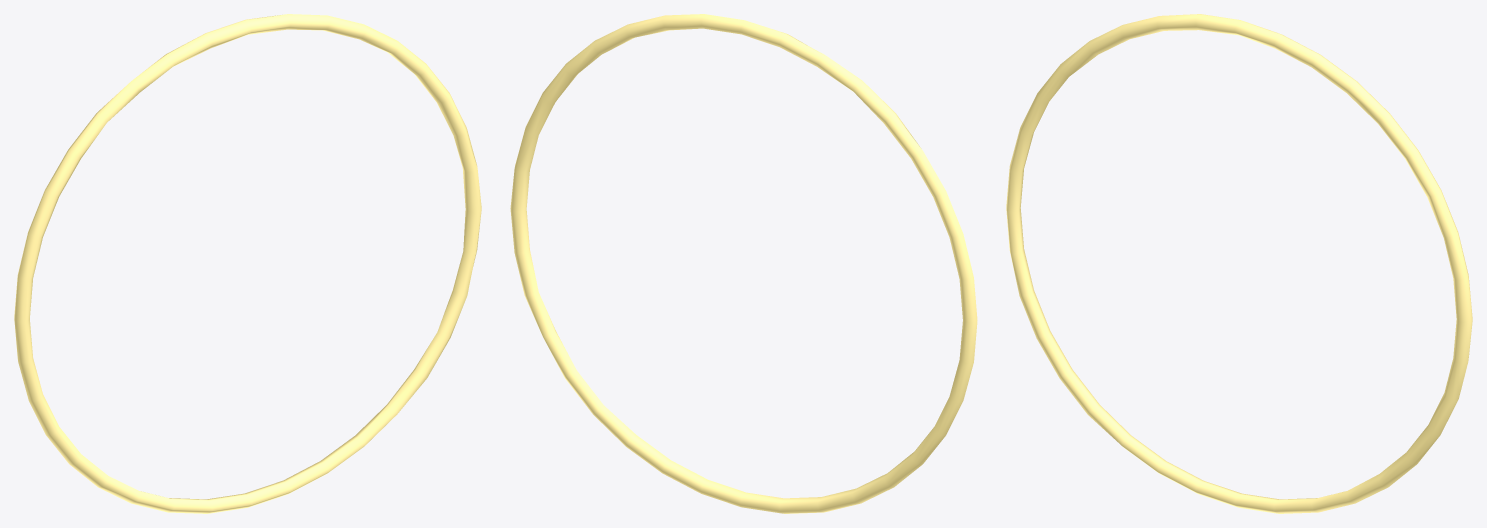
The model's file is eagle-crown-ring.medium.glb.
3 views of the same model, side by side, from view 1: azimuth 30°, elevation 25°; view 2: azimuth 150°, elevation 25°; view 3: azimuth 330°, elevation 25° (orthographic).
Parts seen in each view (by area): view 1: Eagle Crown Ring; view 2: Eagle Crown Ring; view 3: Eagle Crown Ring.
Boxes of the visible parts, box(x1,y1,x2,y2) form: Eagle Crown Ring: box(14, 14, 481, 513); Eagle Crown Ring: box(510, 14, 977, 513); Eagle Crown Ring: box(1006, 14, 1472, 513).
Size of the model in its own units: 42.67 by 42.67 by 1.26.
